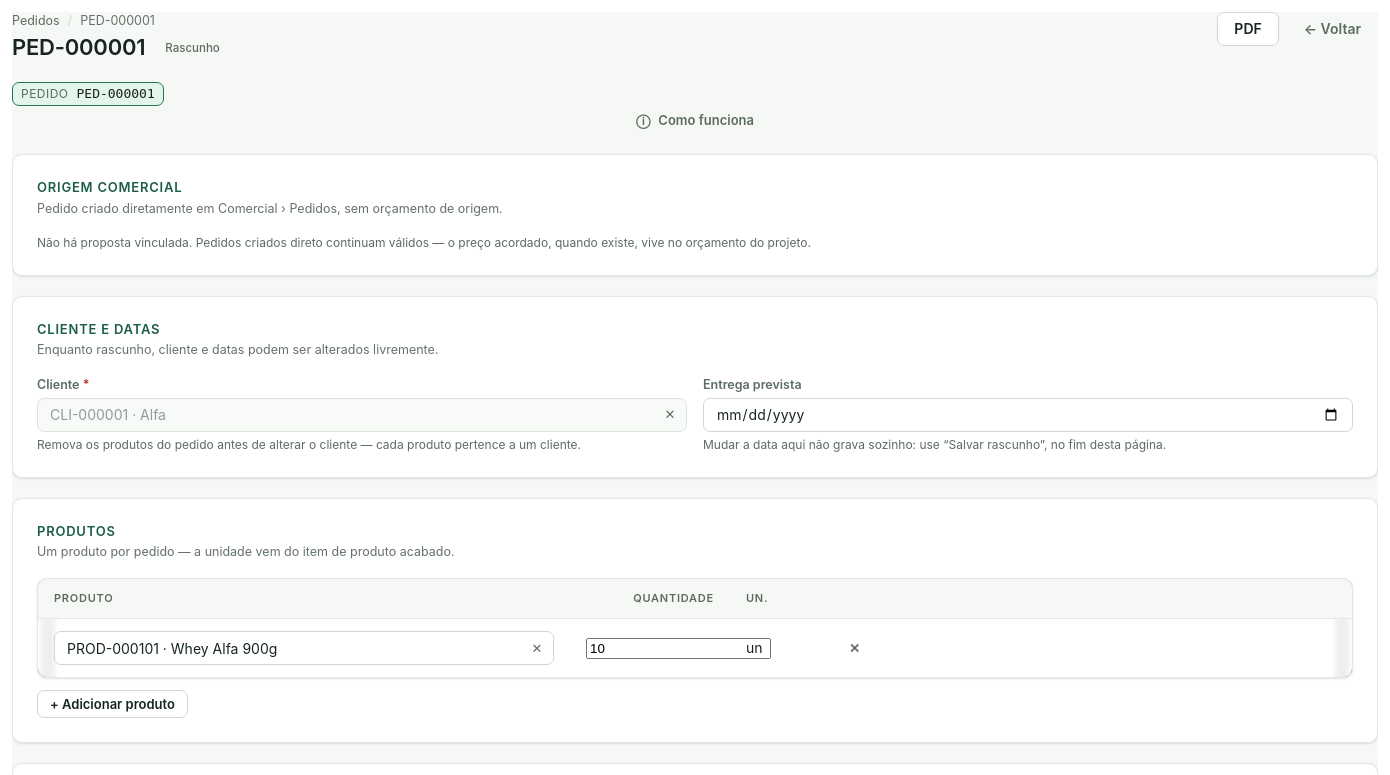
Pedido do Cliente — o produto vem do cliente do pedido › E2. removida a linha, o cliente volta a ser editável
The width and height of the screenshot is (1390, 775).
Expected: the dropdown with id "co-customer" is disabled, [37,398,687,432]
Click the button named "Remover linha".
click(854, 648)  # box [836,634,873,662]
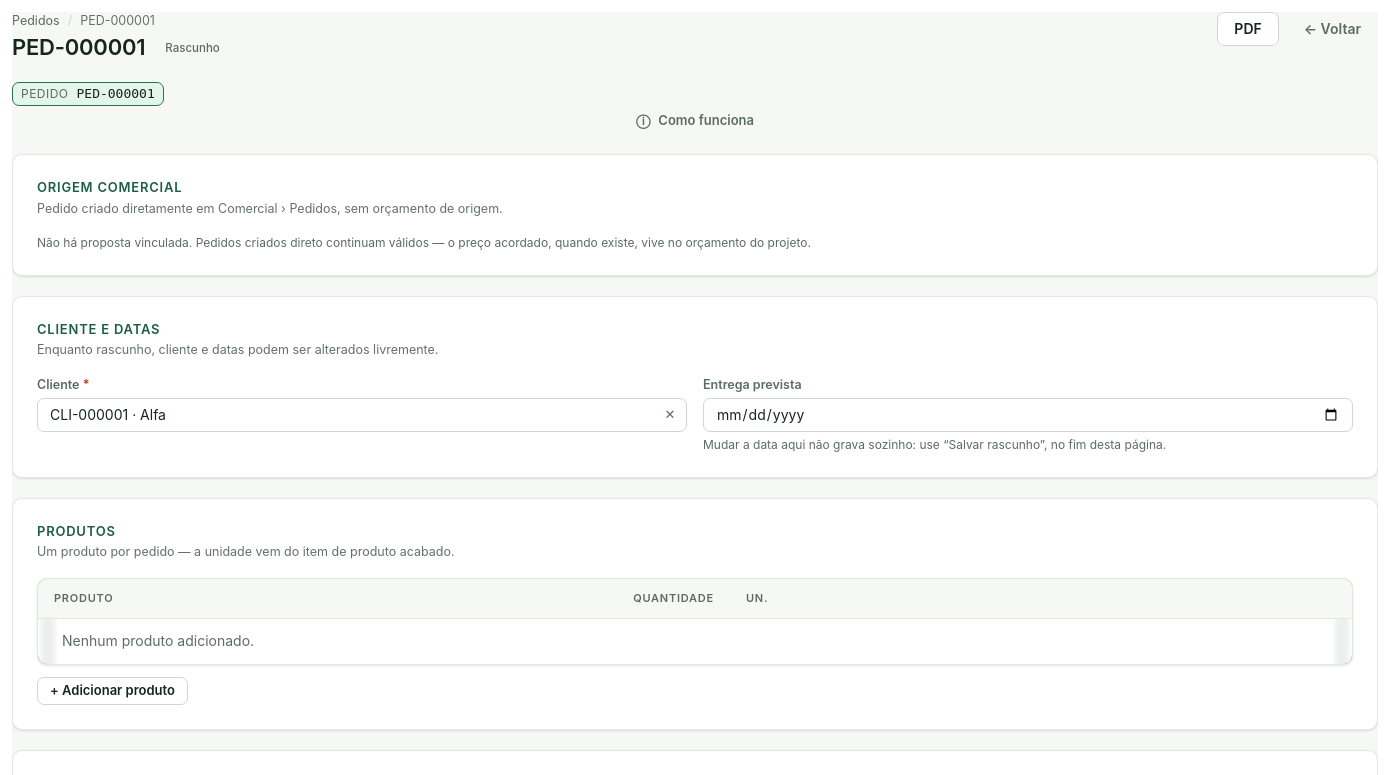
Expected: the dropdown with id "co-customer" is enabled, [37,398,687,432]
Expected: the text "Remova os produtos do pedido antes de alterar o cliente" is gone
